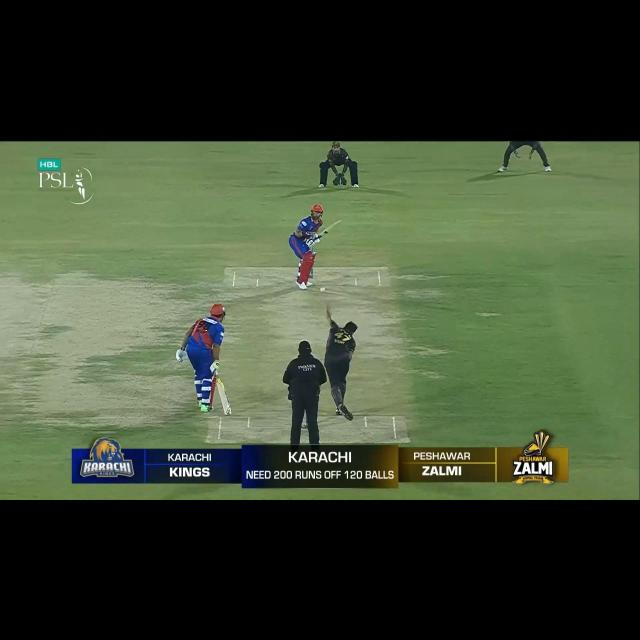bat: (215, 380, 232, 414), (318, 220, 340, 238)
toe: (223, 402, 231, 415), (331, 219, 340, 228)
